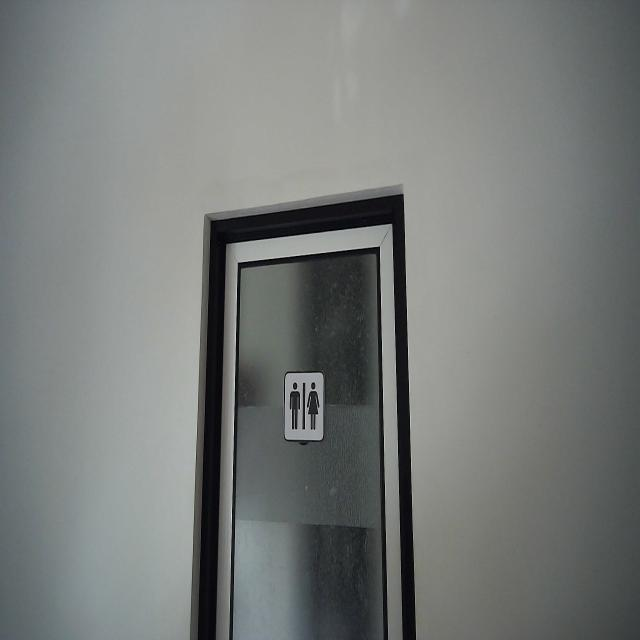restroom: (282, 366, 327, 444)
